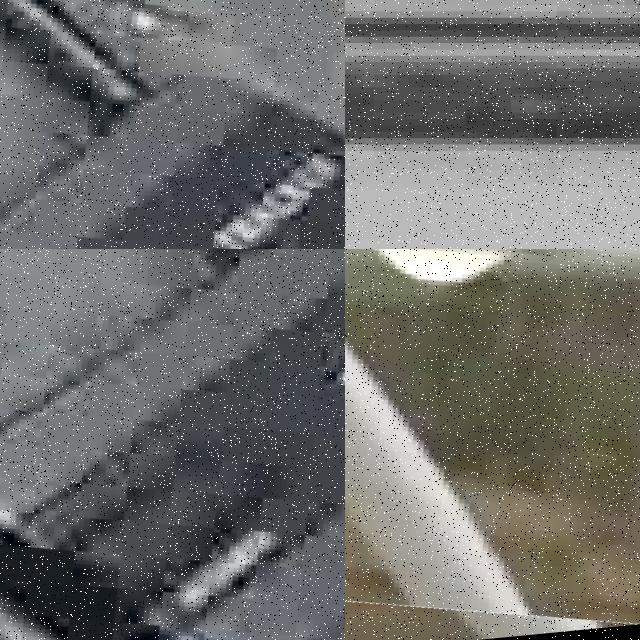0: (0, 249, 345, 640), (0, 0, 345, 249)
drone: (345, 249, 640, 640)
